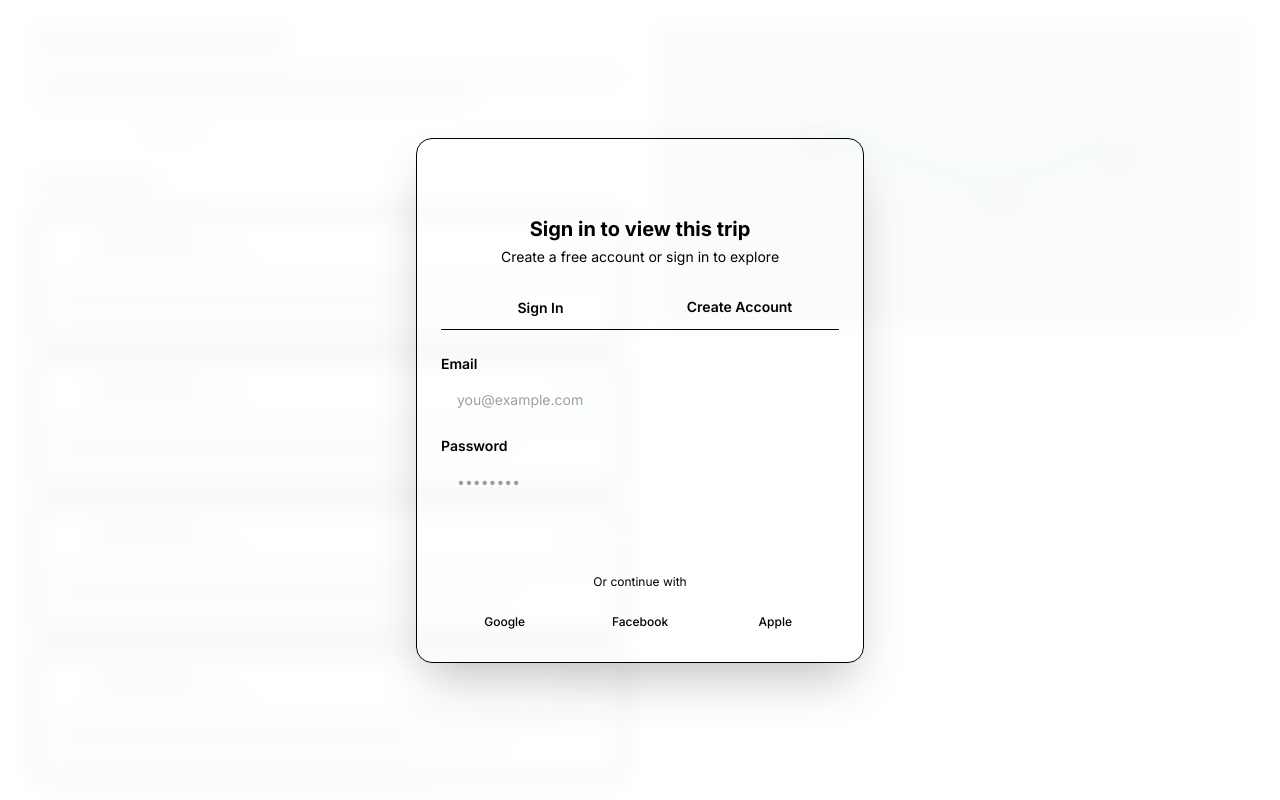
Scenario: TripAuthGate › switches to the register tab and back
The image size is (1280, 800).
Click the button "Create Account".
click(740, 308)  # box x1=640 y1=286 x2=839 y2=328
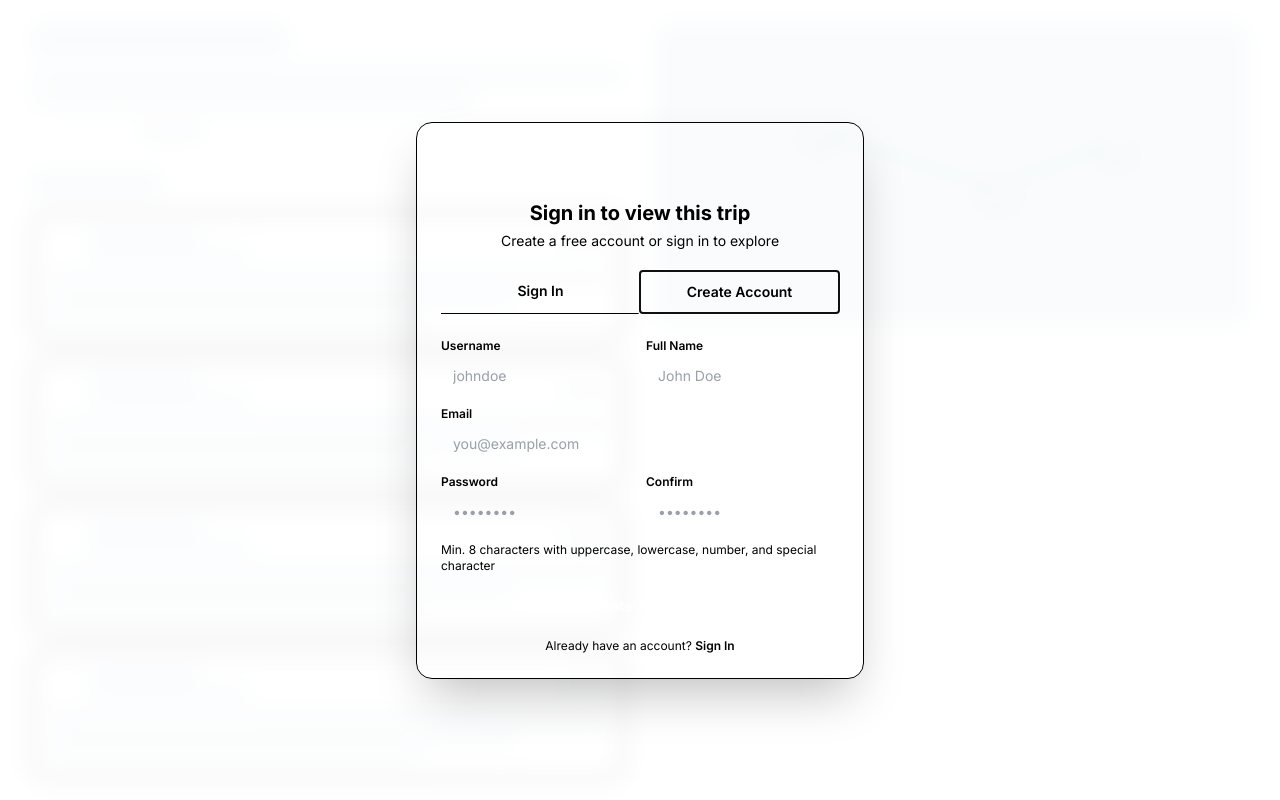
Expected: the field with placeholder "johndoe" is shown, x1=441 y1=358 x2=634 y2=394
// The in-form "Sign In" link switches back to login.
Click the button "Sign In" next to "Already have an account?".
click(715, 646)  # box x1=695 y1=638 x2=735 y2=654
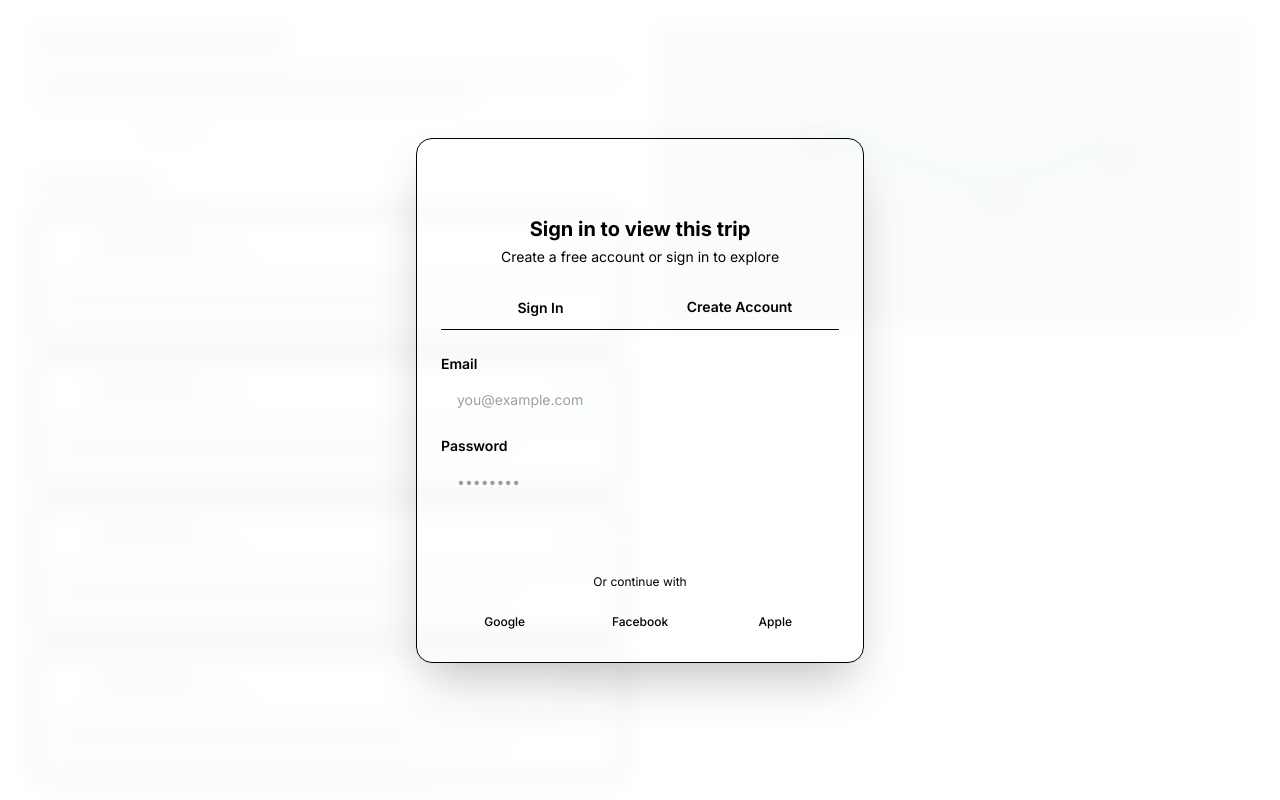
Expected: the field with placeholder "you@example.com" is shown, x1=441 y1=380 x2=839 y2=420
